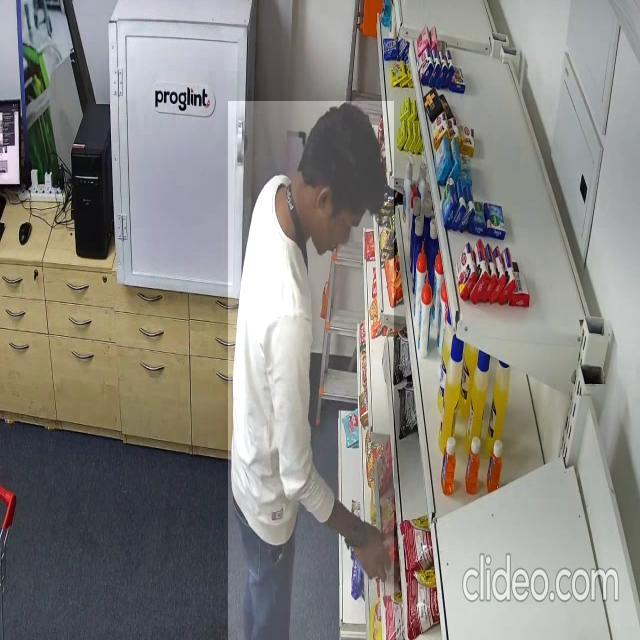normal: (228, 101, 394, 640)
